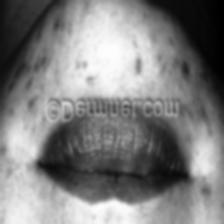Non-Cancerous Skin Condition: (14, 56, 50, 90), (180, 102, 207, 124), (133, 57, 143, 74), (180, 61, 189, 79), (86, 74, 96, 86), (202, 186, 208, 198)
